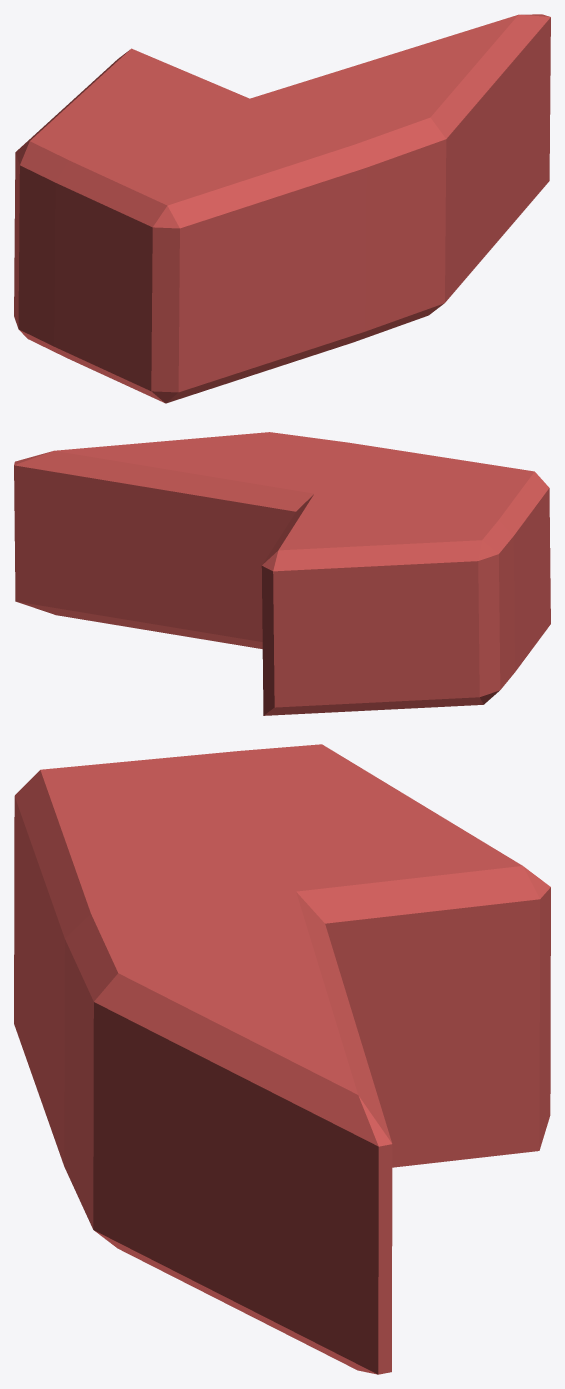
3 renders of one model, top to bottom at view 1: azimuth 30°, elevation 25°; view 2: azimuth 150°, elevation 25°; view 3: azimuth 270°, elevation 25°, orthographic. The views are drawn at different scales.
Parts seen in each view (by area): view 1: Plane.050; view 2: Plane.050; view 3: Plane.050.
Part boxes in pixels (x1,y1,x2,y2): Plane.050: [14, 14, 550, 403]; Plane.050: [14, 432, 550, 715]; Plane.050: [14, 744, 550, 1374].
Size of the model in its own units: 26.23 by 44.12 by 15.32.
